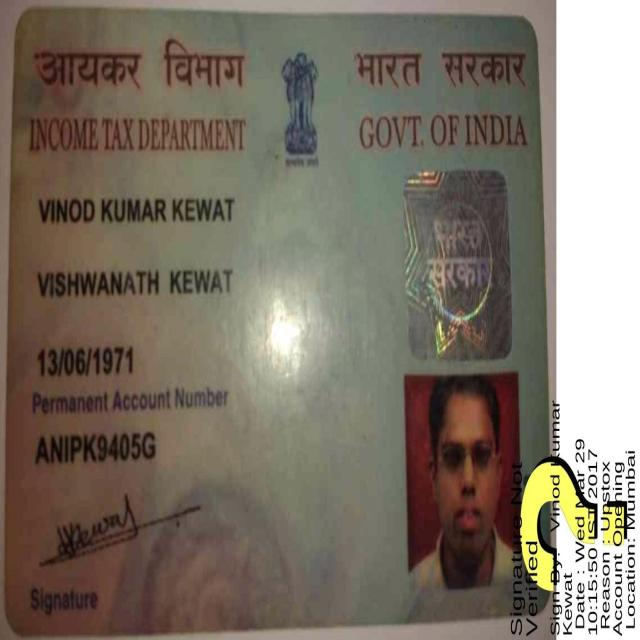pan_card: (17, 11, 551, 620)
